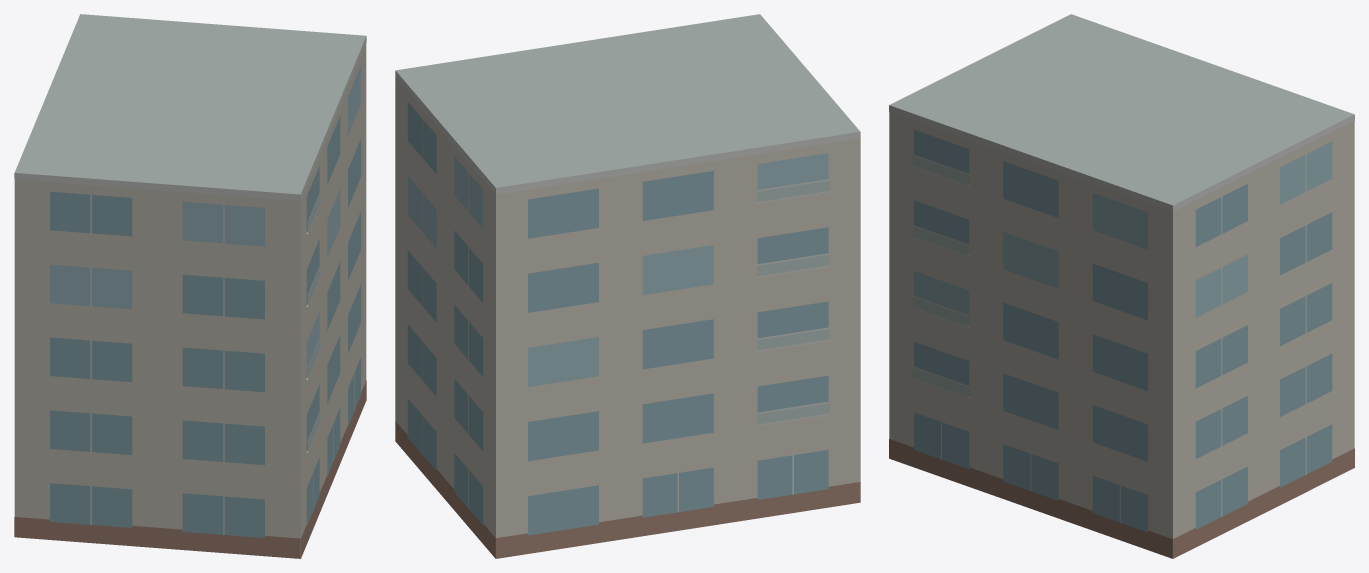
The model's file is survey-upis-32927992.glb.
3 views of the same model, side by side, from view 1: azimuth 30°, elevation 25°; view 2: azimuth 150°, elevation 25°; view 3: azimuth 270°, elevation 25° (orthographic). The views are drawn at different scales.
Parts seen in each view (by area): view 1: survey-upis-32927992.tmp; view 2: survey-upis-32927992.tmp; view 3: survey-upis-32927992.tmp.
Boxes of the visible parts, left/top/right/bottom form: survey-upis-32927992.tmp: left=14, top=14, right=366, bottom=558; survey-upis-32927992.tmp: left=395, top=14, right=860, bottom=558; survey-upis-32927992.tmp: left=889, top=14, right=1354, bottom=558.
Bounding box in the file's own units: 15.52 × 13.35 × 15.95.
